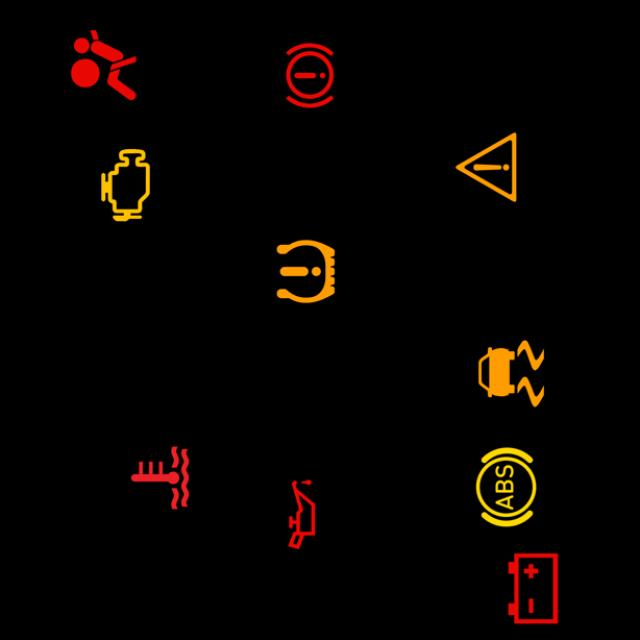Anti Lock Braking System: (463, 444, 549, 530)
Braking System Issue: (267, 32, 353, 118)
Charging System Issue: (490, 544, 576, 630)
Check Engine: (82, 141, 168, 227)
Electronic Stability Problem -ESP-: (468, 330, 554, 416)
Engine Overheating Warning Light: (117, 434, 203, 520)
Low Engine Oil Warning Light: (259, 471, 345, 556)
Low Tire Pressure Warning Light: (263, 228, 349, 314)
Master warning light: (444, 123, 530, 210)
SRS-Airbag: (60, 21, 146, 107)
